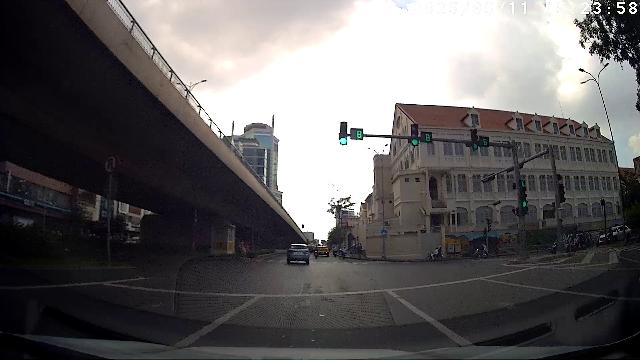124a-cam-quay-dau-xe: (104, 154, 118, 174)
423a-duong-nguoi-di-bo-sang-ngang-1: (382, 230, 386, 236)
